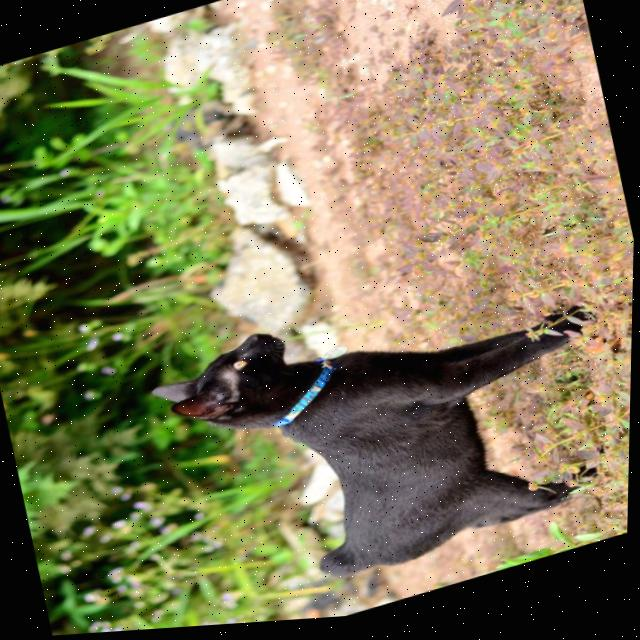American Bobtail: (137, 241, 635, 632)
